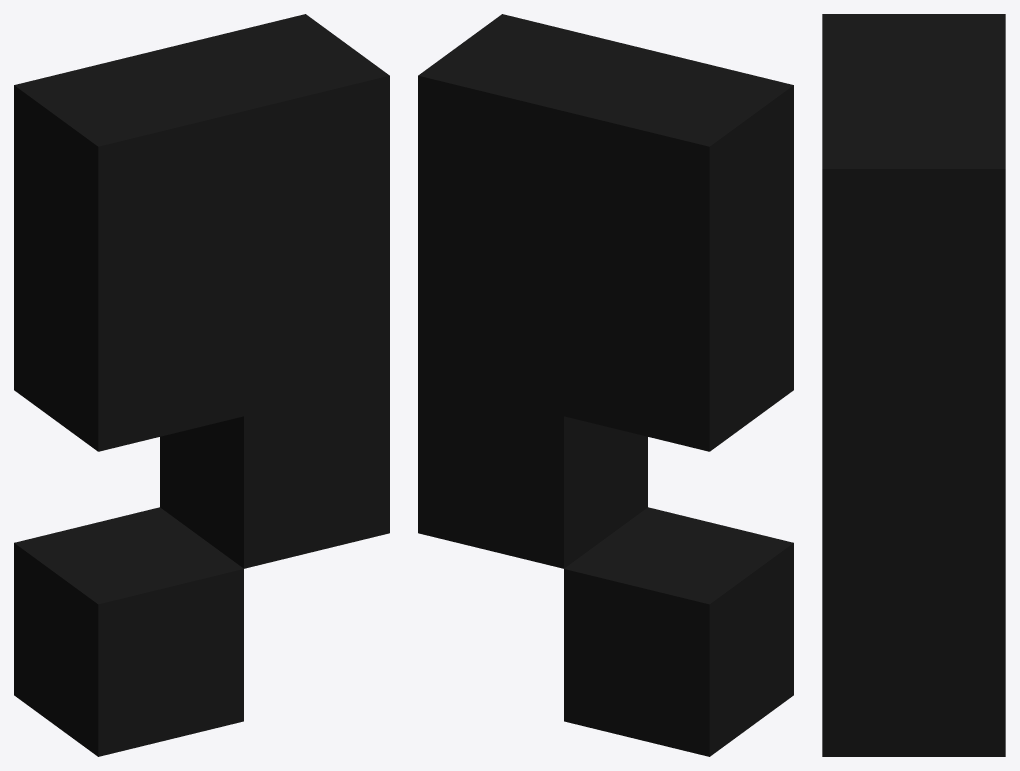
The model's file is TriggerArisaka99.fbx.
The picture shows the model from 3 angles, left to right: view 1: azimuth 30°, elevation 25°; view 2: azimuth 150°, elevation 25°; view 3: azimuth 270°, elevation 25°; orthographic projection. The views are drawn at different scales.
Visible parts, largest first — view 1: TriggerArisaka99.001; view 2: TriggerArisaka99.001; view 3: TriggerArisaka99.001.
Boxes of the visible parts, bbox=[...] form: TriggerArisaka99.001: bbox=[14, 14, 389, 756]; TriggerArisaka99.001: bbox=[418, 14, 793, 756]; TriggerArisaka99.001: bbox=[822, 14, 1005, 756].
Size of the model in its own units: 0.2 by 0.4 by 0.1.
Materials: 1 (1 with a texture image).
